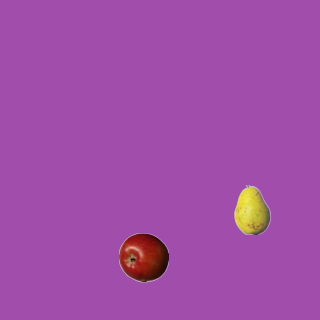Apple Braeburn: (118, 232, 168, 282)
Pear Monster: (227, 184, 277, 234)
